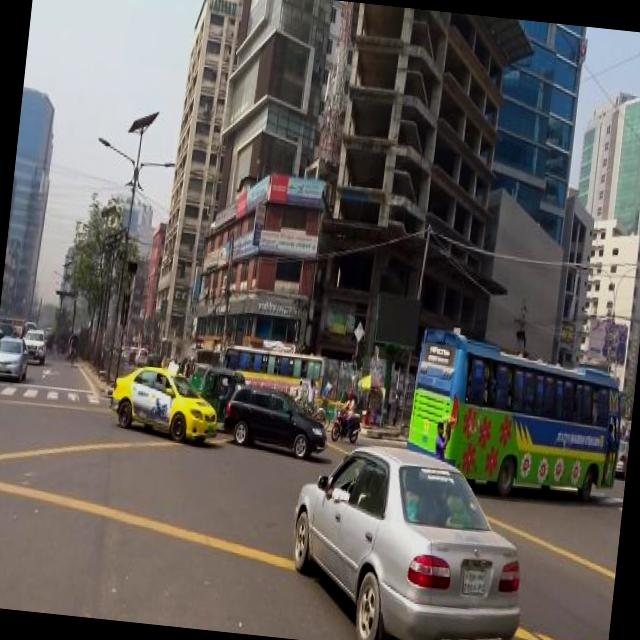bus: (398, 327, 631, 510), (218, 341, 328, 406)
car: (279, 435, 548, 640), (107, 354, 225, 447), (221, 378, 334, 462), (0, 332, 32, 383), (21, 325, 50, 363), (136, 346, 150, 364)
motorcycle: (196, 363, 248, 426), (296, 375, 336, 430), (330, 386, 366, 444), (188, 358, 212, 391), (64, 329, 82, 366), (148, 349, 163, 364)
